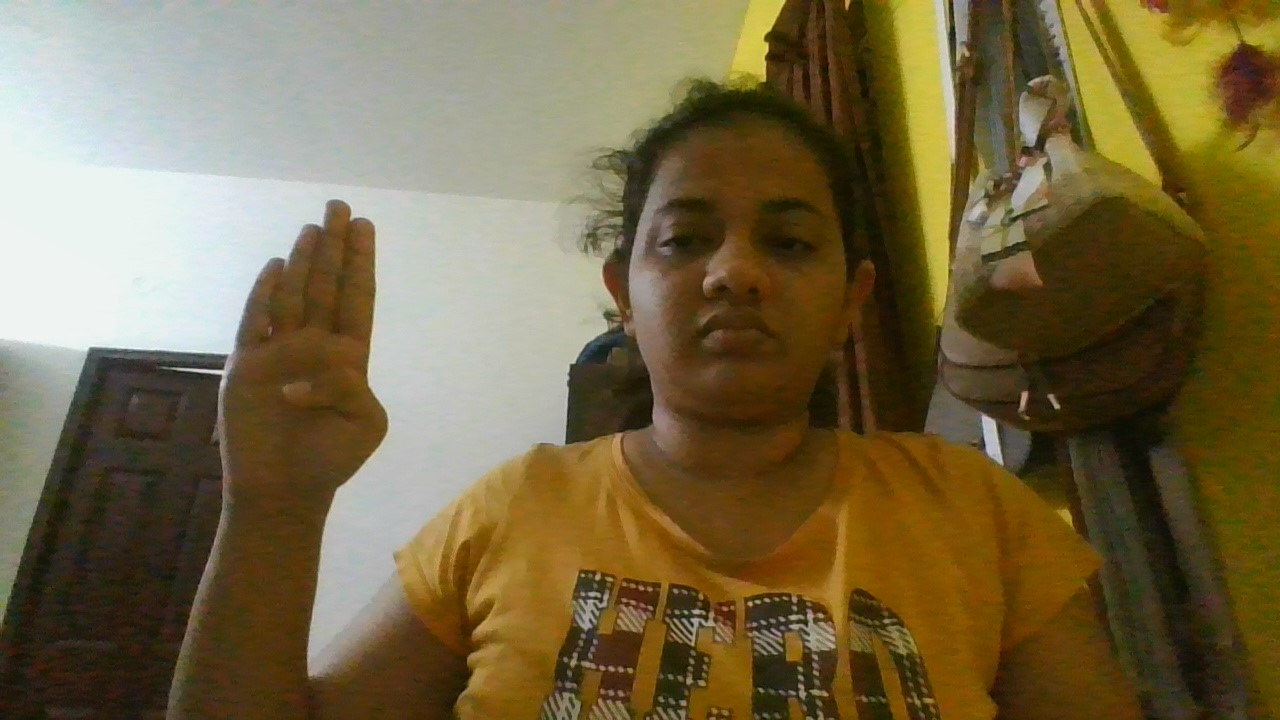b: (209, 192, 407, 528)
